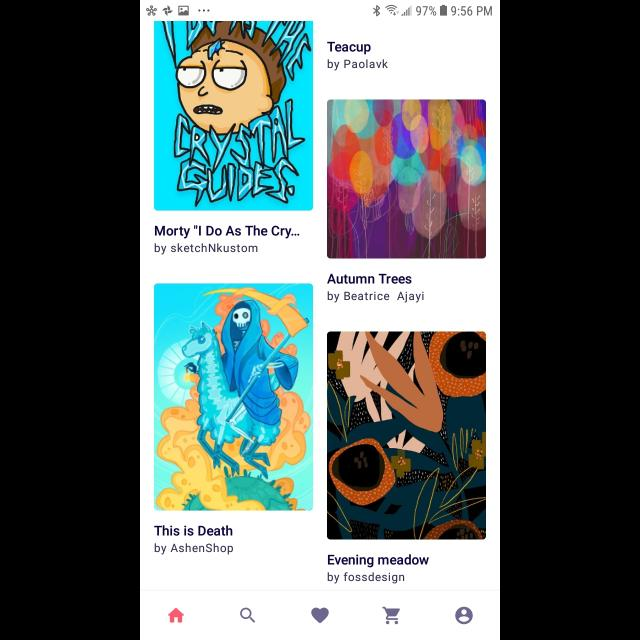icon: (383, 606, 401, 624), (455, 607, 473, 625), (311, 608, 329, 624), (169, 608, 185, 622), (240, 608, 256, 622)
image: (154, 284, 314, 511), (328, 332, 487, 540), (154, 21, 314, 211), (326, 100, 486, 260)
text: (156, 225, 300, 239), (327, 554, 429, 568), (154, 243, 258, 255), (328, 291, 424, 303), (154, 543, 233, 555), (328, 572, 404, 584), (328, 274, 412, 284), (154, 526, 233, 536), (328, 59, 388, 71), (327, 41, 371, 55)
uppertaskbar: (140, 1, 500, 18)
